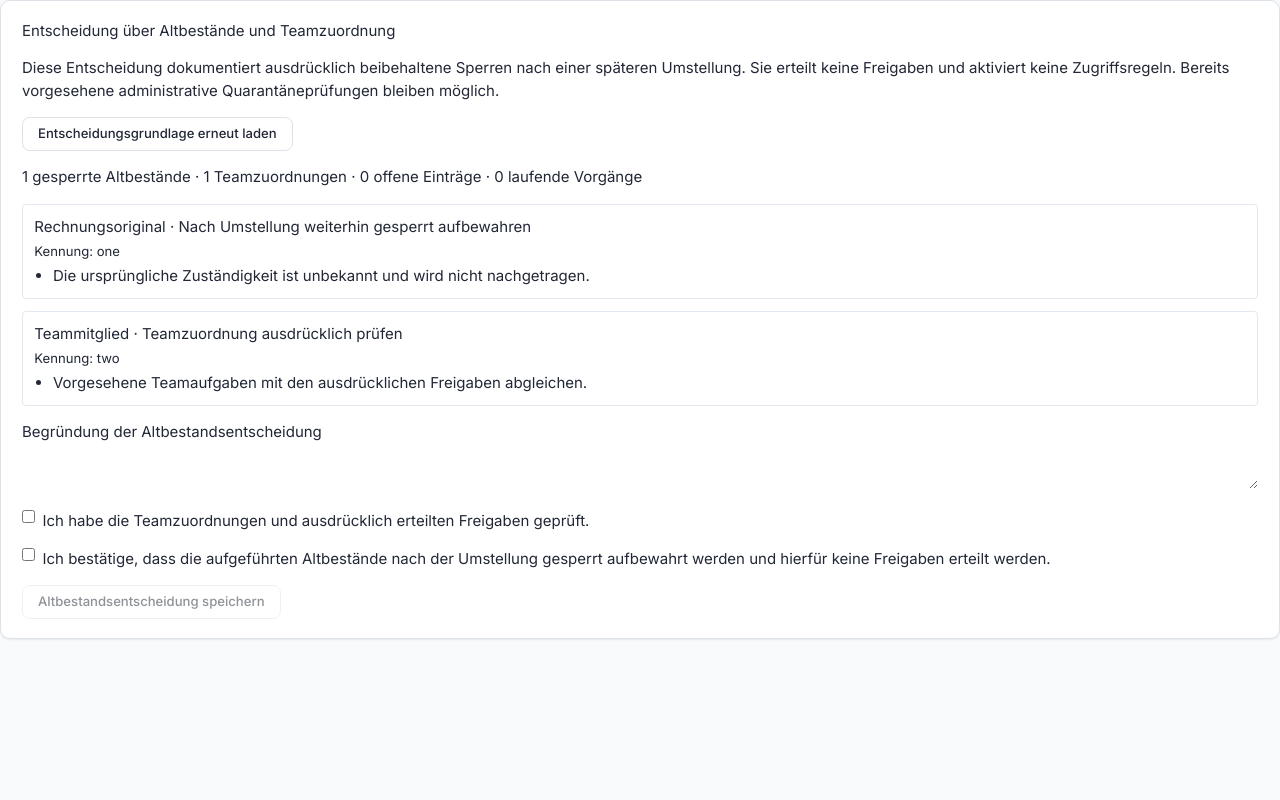
Scenario: requires fresh acknowledgment after stale evidence
This screenshot has width=1280, height=800.
expect the heading "Rechnungsoriginal · Nach Umstellung" is shown: met, box [34,217,531,236]
In the text box labelled "Begründung der Altbestandsentscheidung": (640, 466) [22,444,1258,489], type "Keep restricted legacy source"
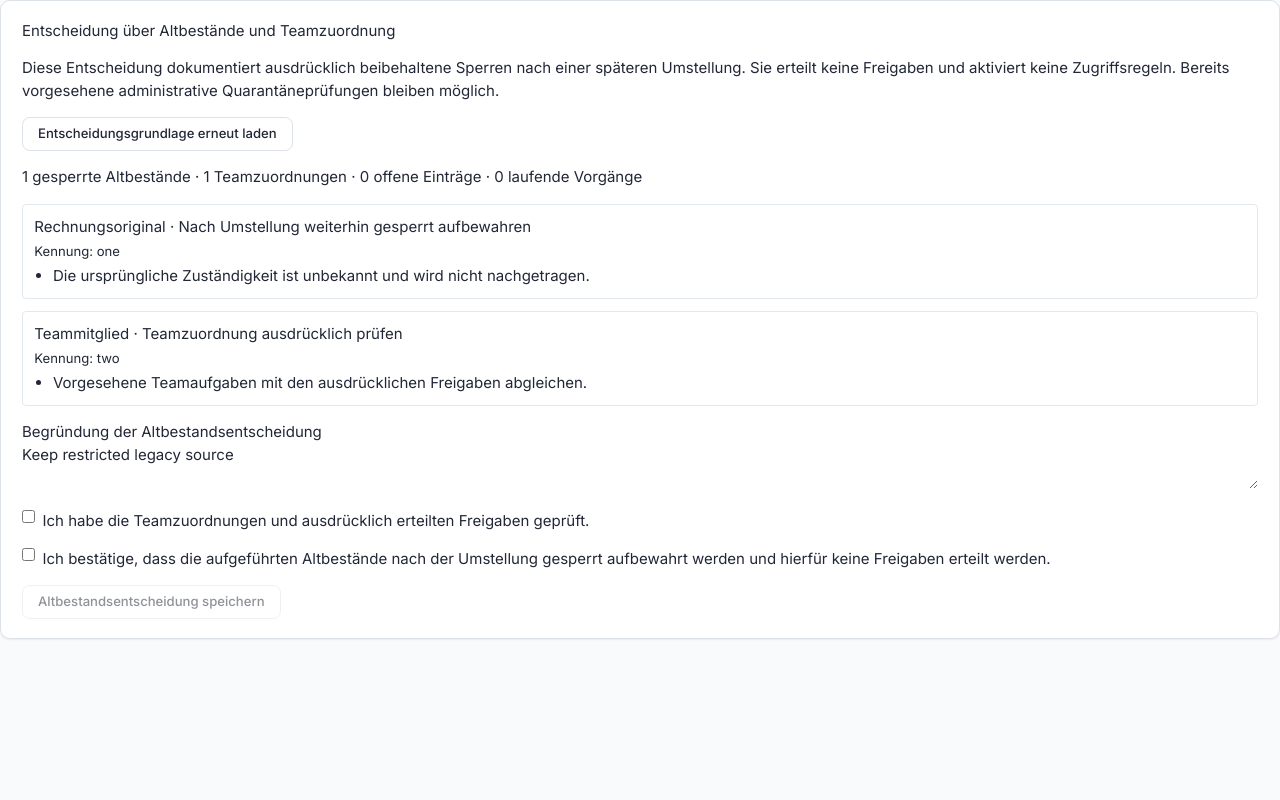
Click the 1st checkbox: (28, 517) [22,510,35,523]
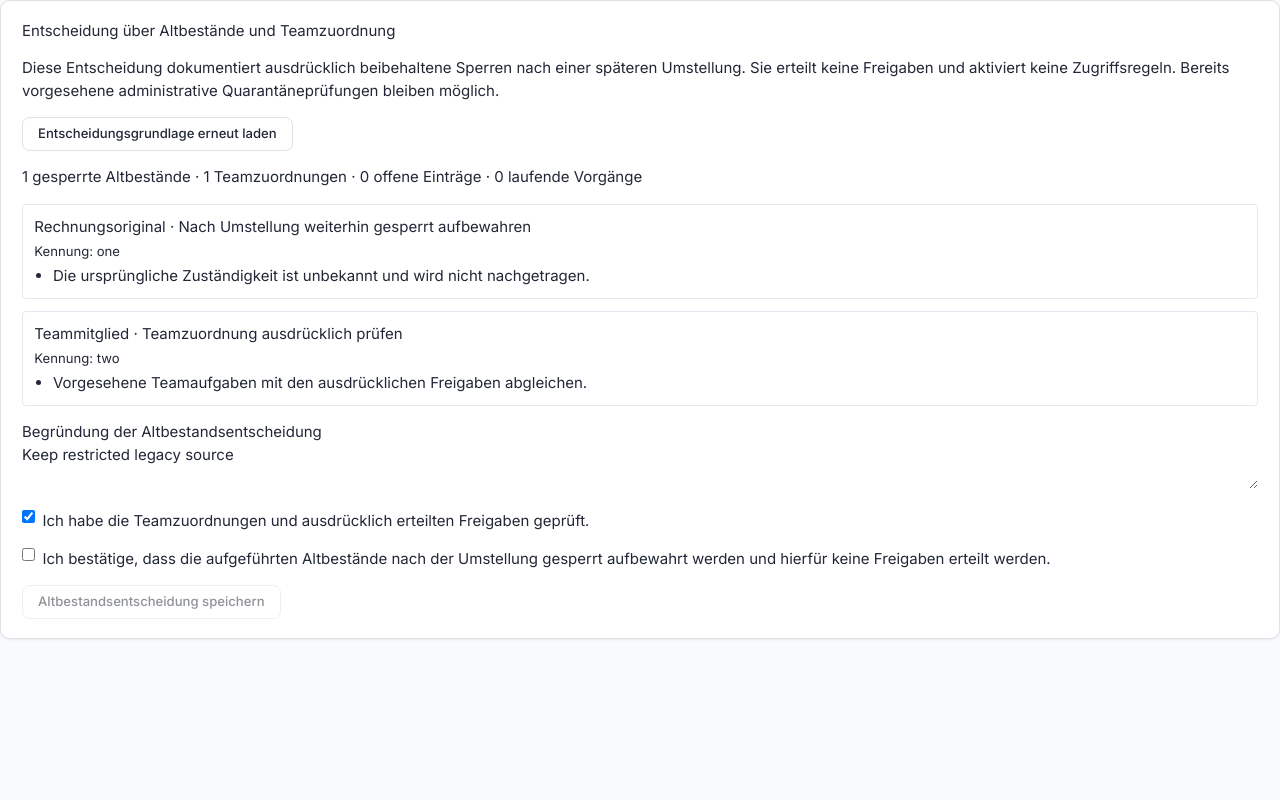
Click the 2nd checkbox: (28, 554) [22,548,35,561]
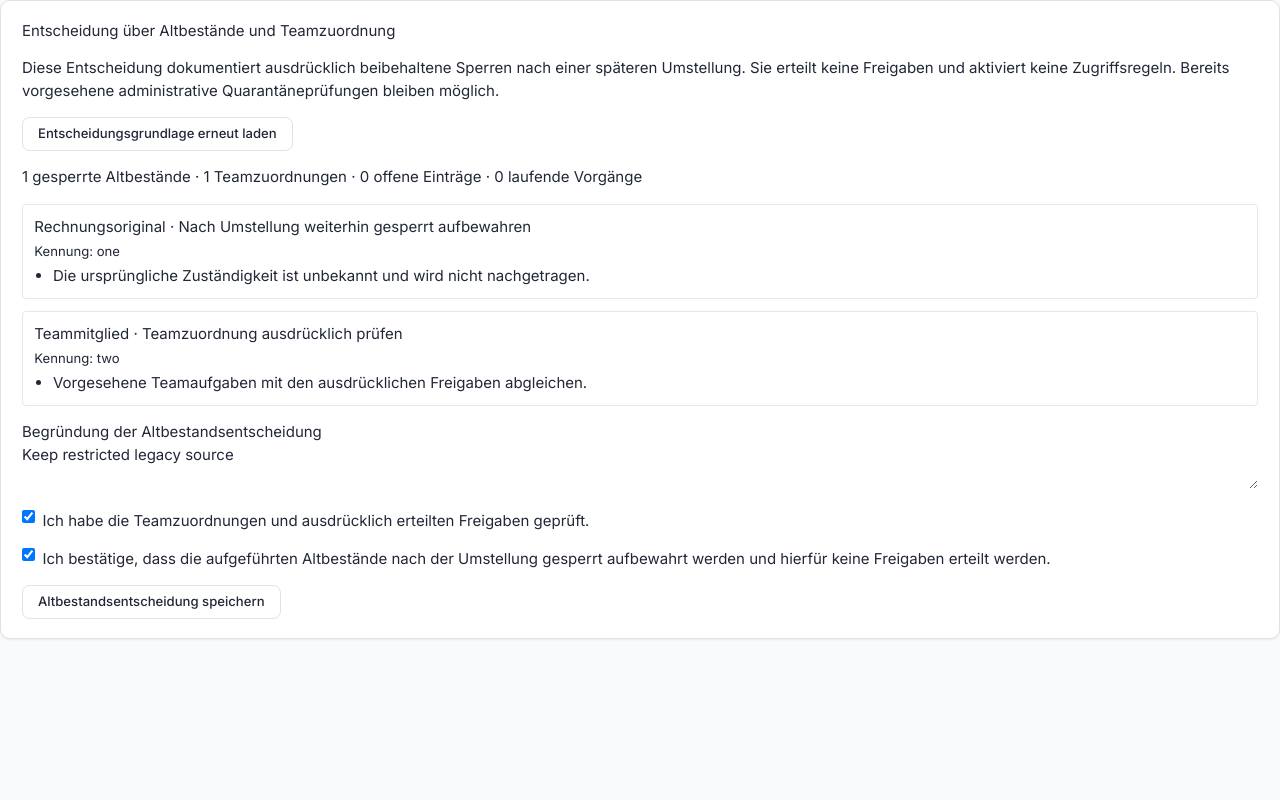
Click the button "Altbestandsentscheidung speichern": (151, 602) [22,585,280,619]
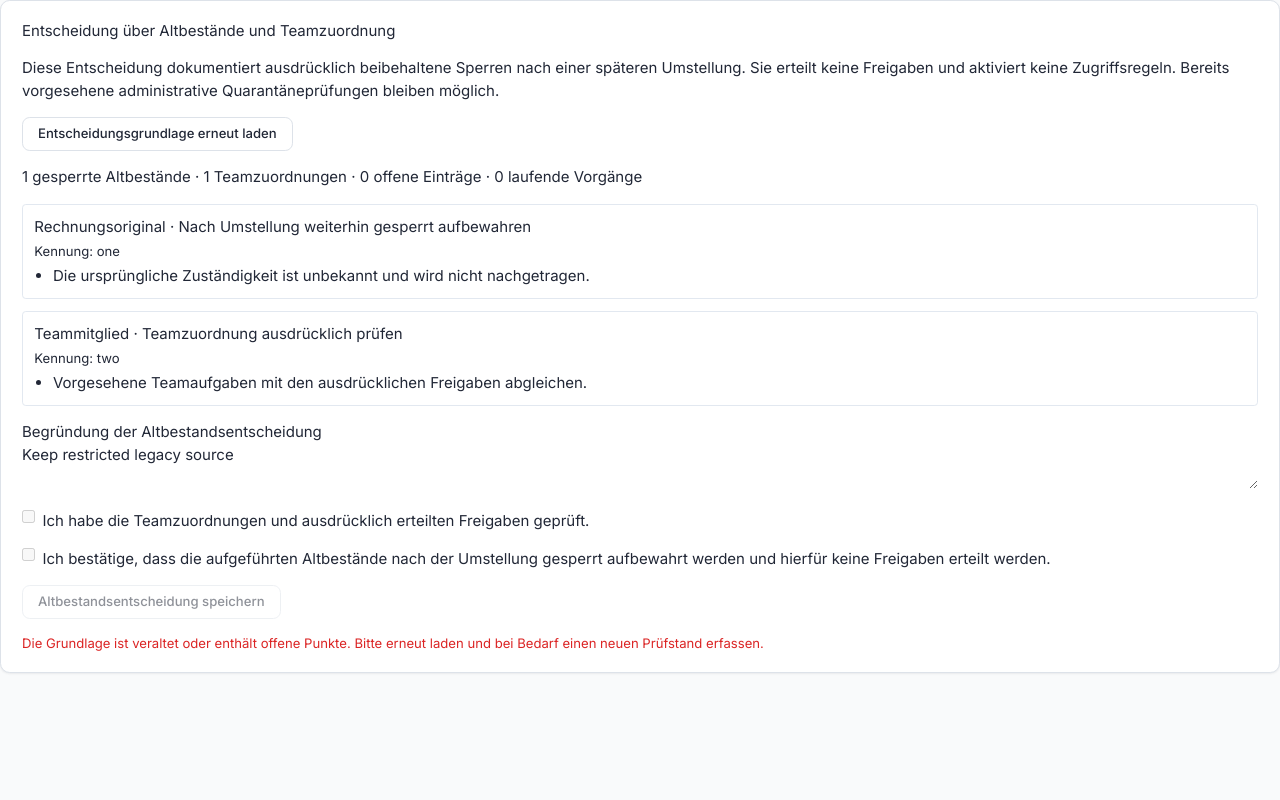
expect the text "Die Grundlage ist veraltet" is shown: met, box [22,635,764,651]
expect the button "Altbestandsentscheidung speichern" is disabled: met, box [22,585,280,619]
Click the button "Entscheidungsgrundlage erneut laden": (157, 134) [22,117,293,151]
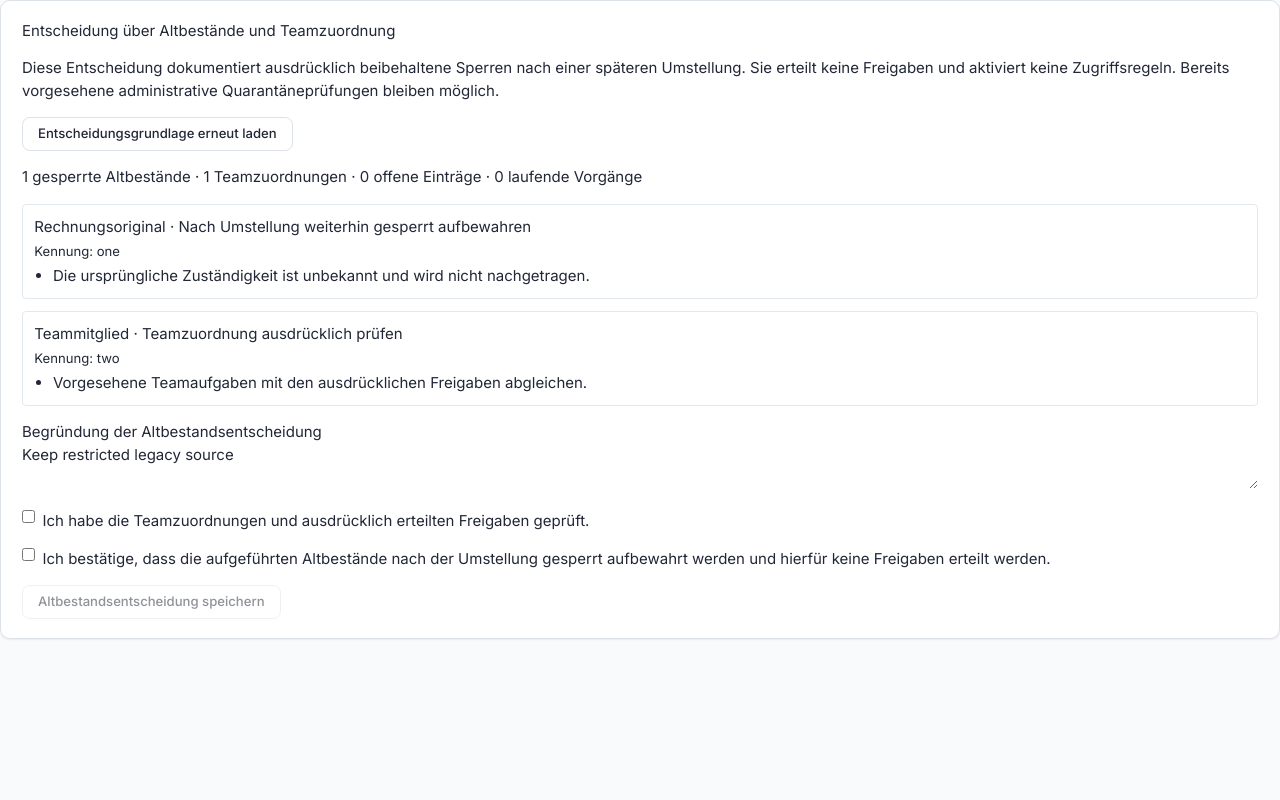
expect the 1st checkbox is not checked: met, box [22,510,35,523]
expect the 1st checkbox is enabled: met, box [22,510,35,523]
